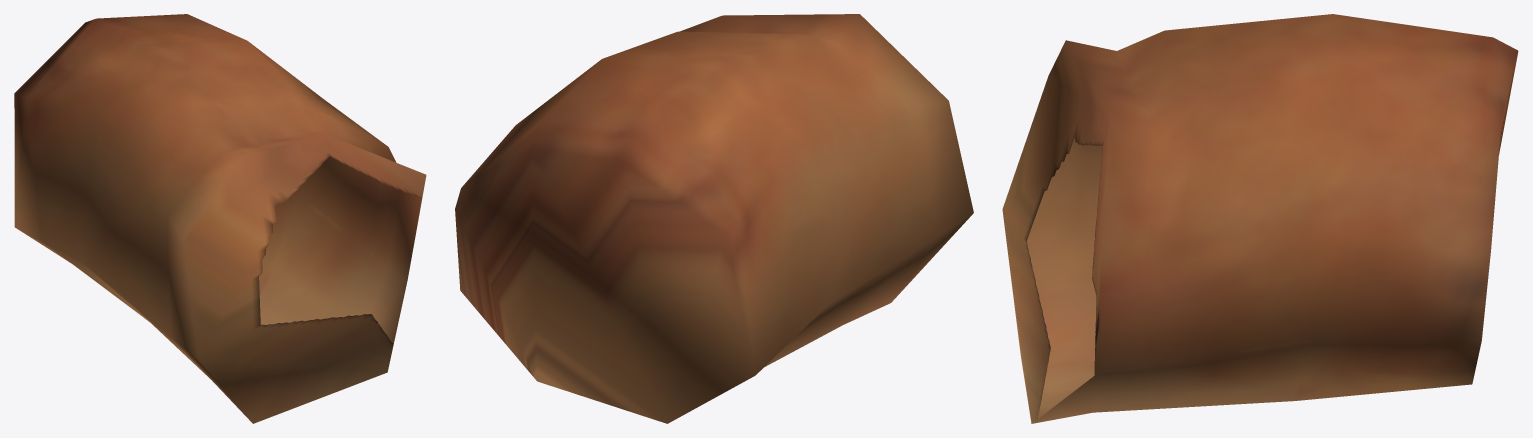
Rendered from index_01_l.dae.
3 views of the same model, side by side, from view 1: azimuth 30°, elevation 25°; view 2: azimuth 150°, elevation 25°; view 3: azimuth 270°, elevation 25° (orthographic). The views are drawn at different scales.
Visible parts, largest first — view 1: index_1_l; view 2: index_1_l; view 3: index_1_l.
Part boxes in pixels (x1,y1,x2,y2): index_1_l: (14,14,426,423); index_1_l: (455,14,973,423); index_1_l: (1002,14,1518,423).
Bounding box in the file's own units: 0.0234 × 0.0306 × 0.0233.
Materials: 1 (1 with a texture image).
